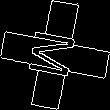M_E: (26, 27, 84, 83)
